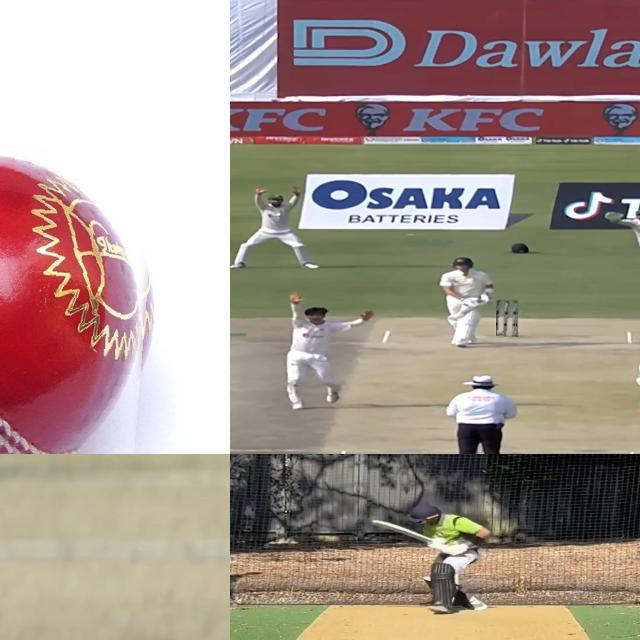Cricket ball: (0, 127, 159, 454)
Stumps: (496, 300, 518, 338)
